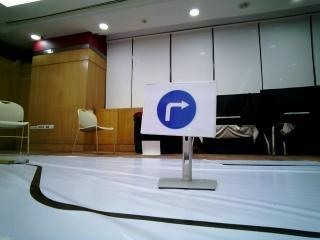right: (148, 88, 218, 135)
